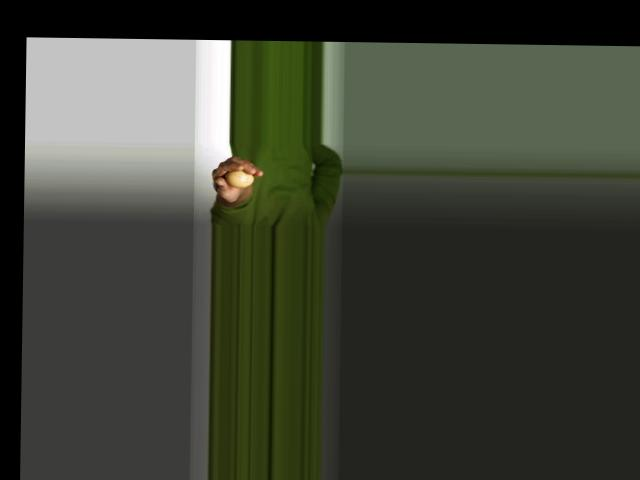egg: (225, 169, 254, 187)
